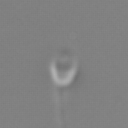normal: (45, 84, 88, 126)
